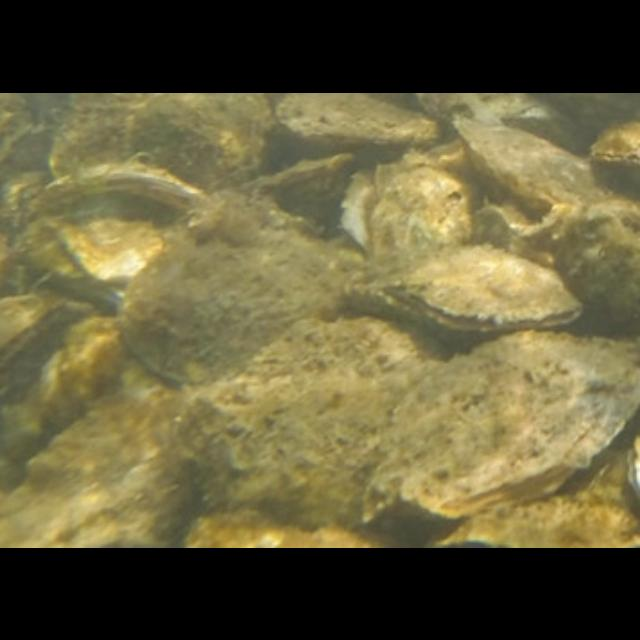Oyster-Closed: (172, 315, 450, 518), (372, 327, 638, 515), (119, 225, 367, 387), (0, 317, 191, 505), (0, 387, 200, 546), (423, 442, 638, 546), (476, 201, 638, 336), (54, 92, 270, 189), (454, 117, 638, 206), (341, 151, 479, 265), (417, 92, 584, 152), (278, 92, 439, 151), (234, 153, 356, 227), (60, 196, 163, 278), (187, 509, 399, 546), (42, 165, 207, 210), (0, 292, 69, 377), (0, 92, 40, 184), (591, 118, 638, 174), (427, 139, 464, 167), (625, 435, 638, 494)
Oyster-Open: (351, 243, 583, 333)
